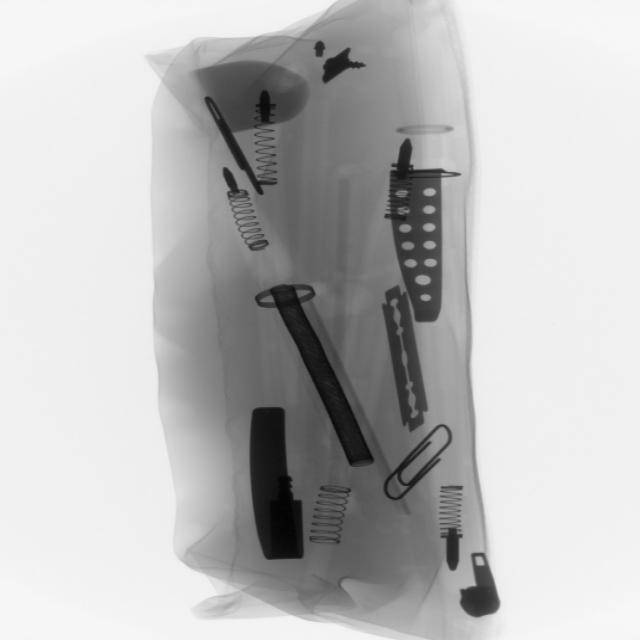BLADE: (381, 278, 434, 438)
